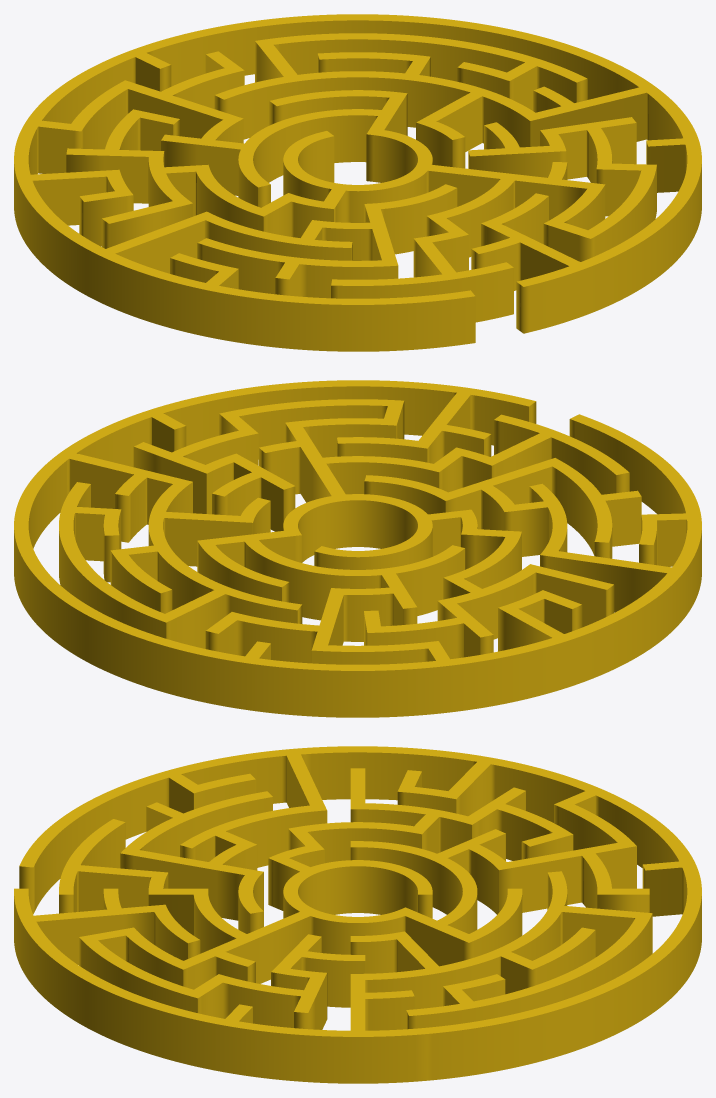
File: Maze.gltf
The picture shows the model from 3 angles, top to bottom: view 1: azimuth 30°, elevation 25°; view 2: azimuth 150°, elevation 25°; view 3: azimuth 270°, elevation 25°; orthographic projection.
Parts seen in each view (by area): view 1: Maze; view 2: Maze; view 3: Maze.
Part boxes in pixels (x1,y1,x2,y2): Maze: (14, 14, 701, 351); Maze: (14, 380, 701, 717); Maze: (14, 746, 701, 1083).
Size of the model in its own units: 20 by 1.5 by 20.
